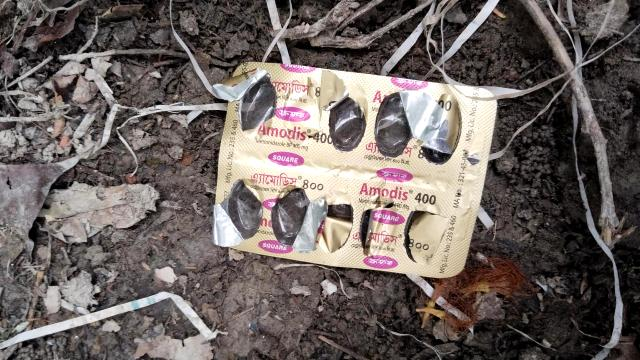medicine: (232, 58, 486, 274)
